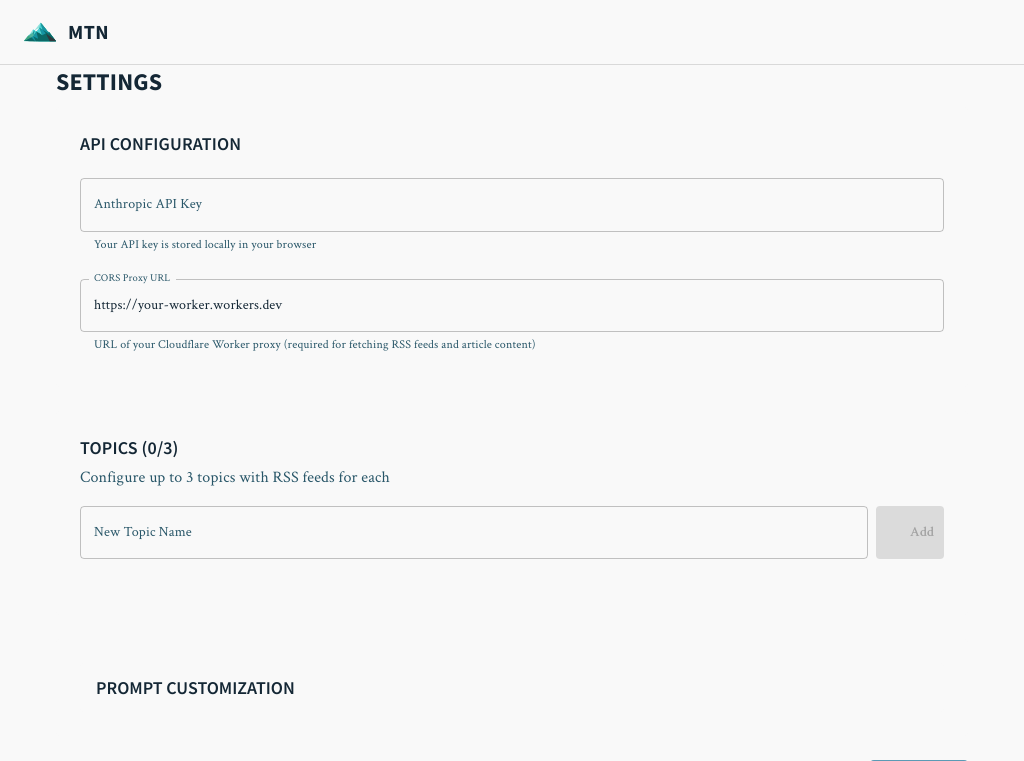
Test: Settings › should allow entering CORS proxy URL
This screenshot has width=1024, height=761.
Replace the text in the field labelled "CORS Proxy URL" with "https://test.workers.dev" at (512, 306), box [80,279,944,332]
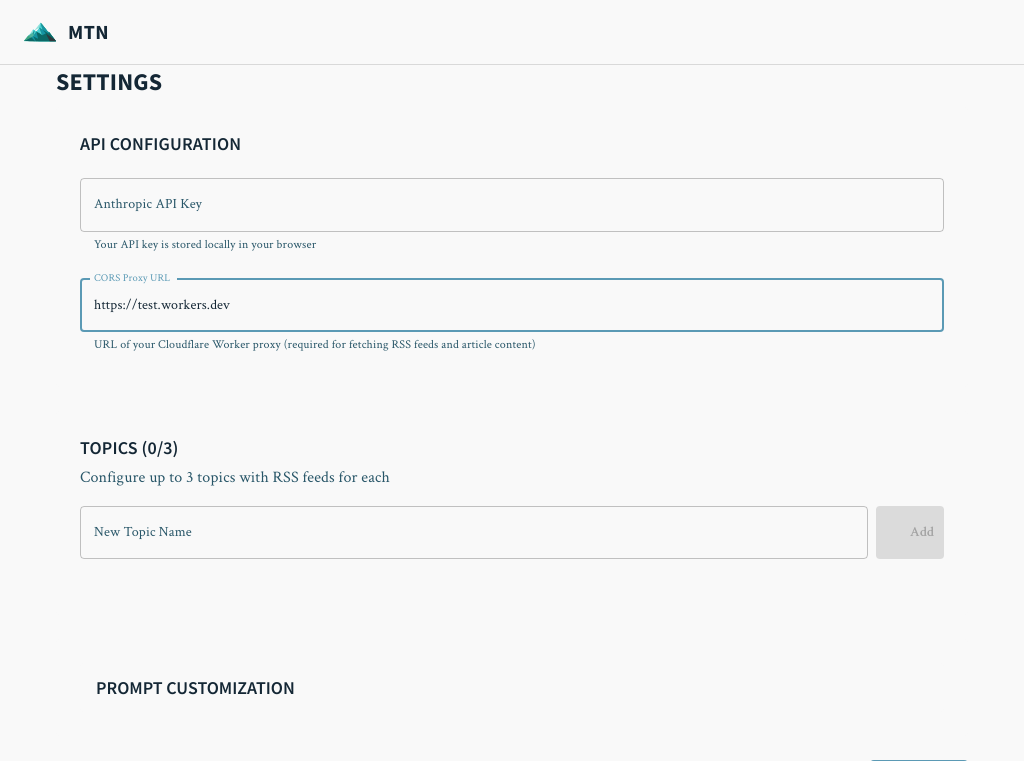
Expected: the field labelled "CORS Proxy URL" holds "https://test.workers.dev", [80,279,944,332]
